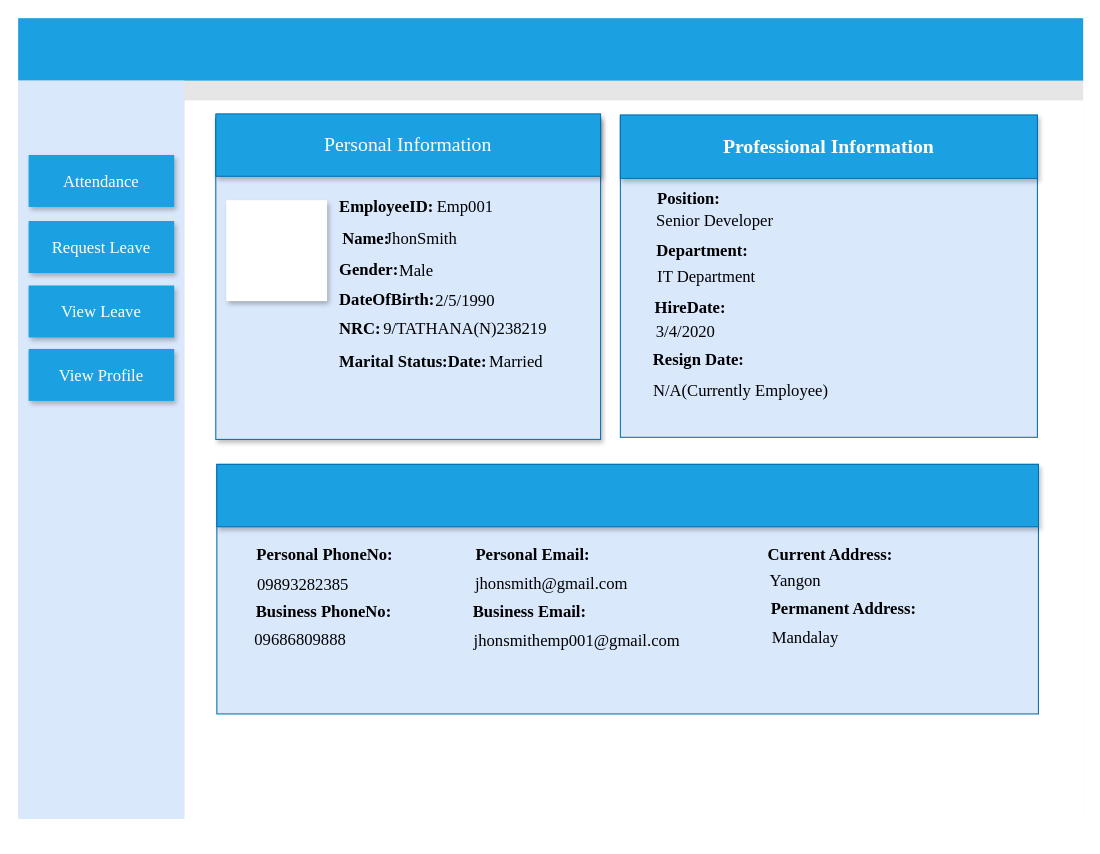
This 1100x854 diagram has some shape labels left out. The shapes that lost their labels are listed below. From the top down, each one's centre as x and y in pixels, then its label:
At point (550, 49): "Human Resource Management System".
At point (628, 496): "Contact Information".
